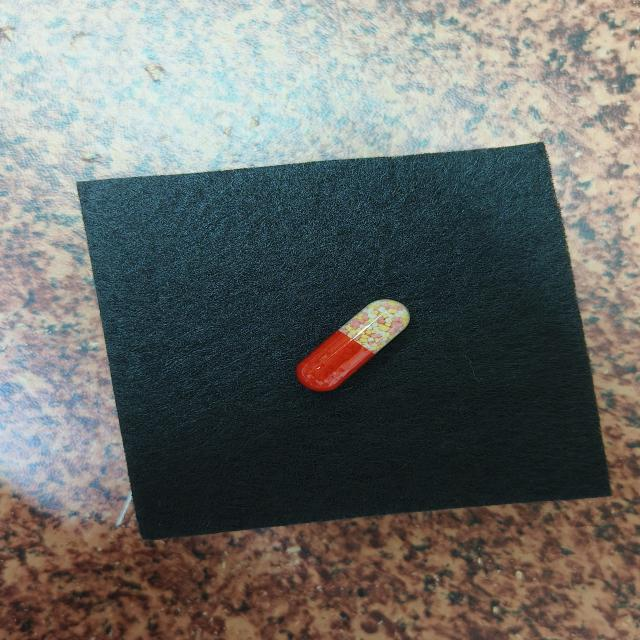Intact Capsule: (296, 299, 410, 391)
